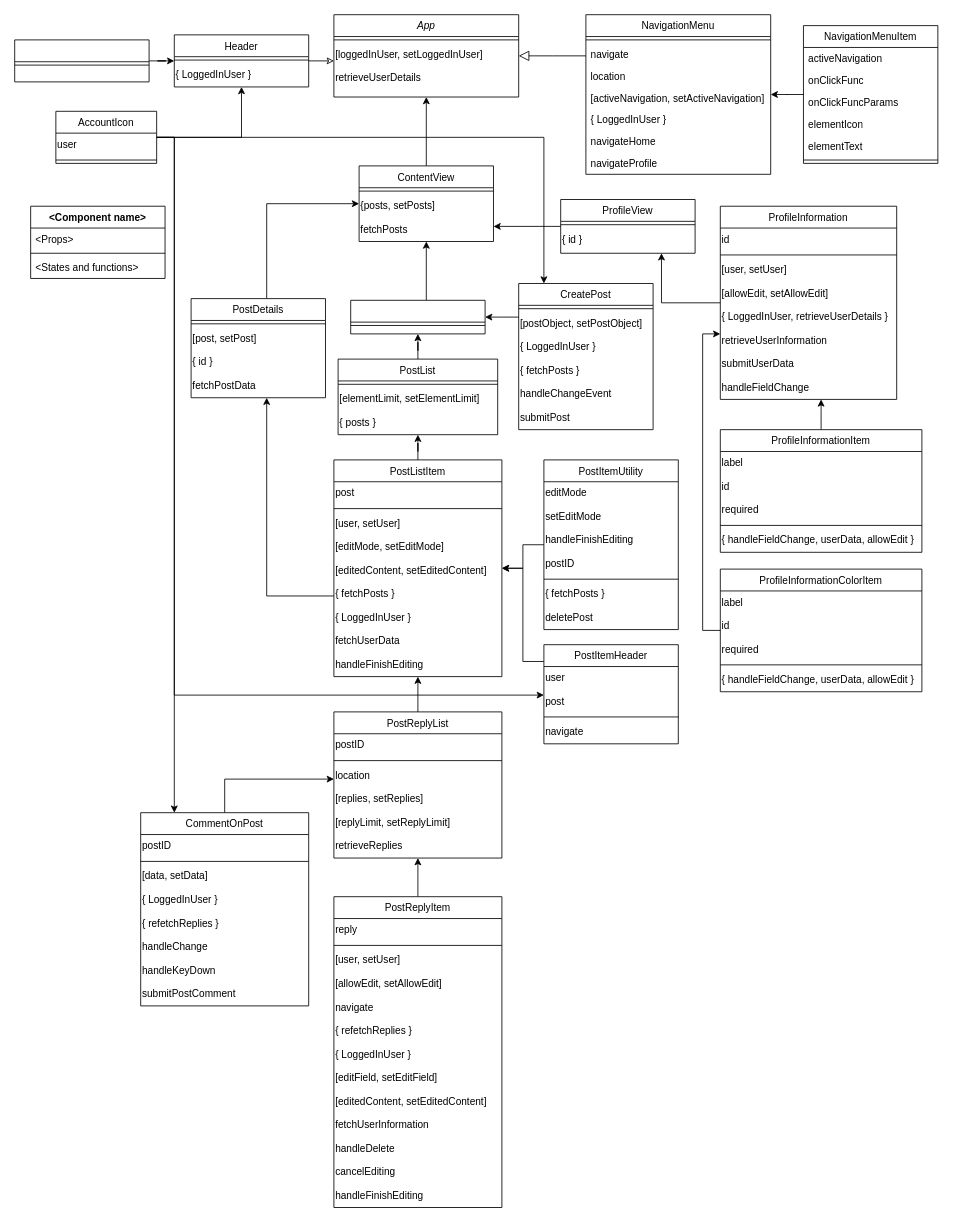
Some shapes in this 953 by 1222 pixel diagram are drawn without their labels. Each missing label, with the centre of its shape:
"DashboardImage" belongs at point (81, 60).
"PostView" belongs at point (417, 316).
